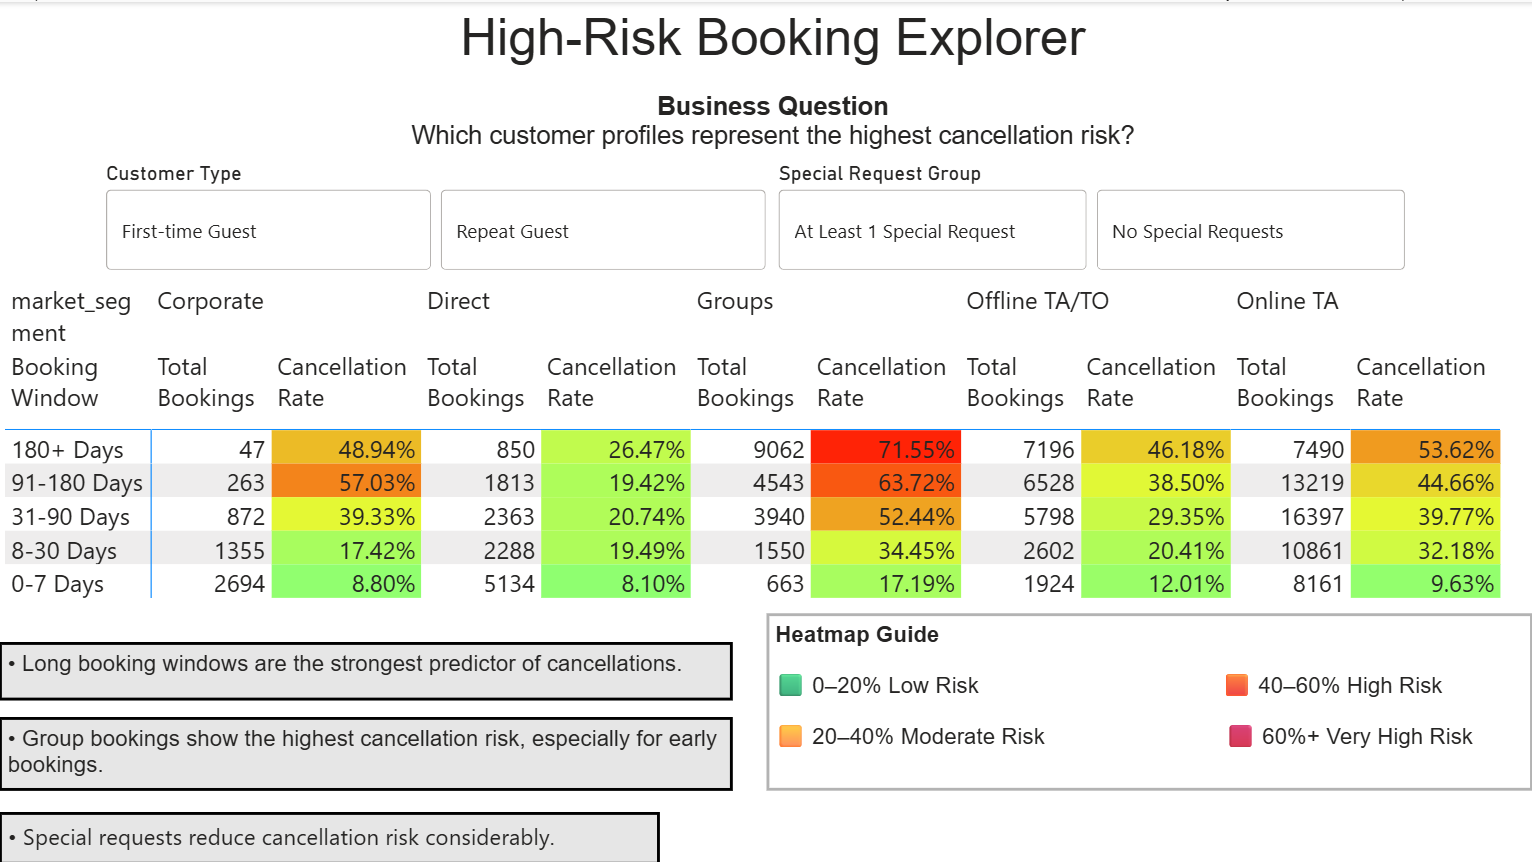

Layout of this report page (visuals, bound fields, positions):
{"tool":"powerbi","page":{"name":"Page 4","canvas":[1280,720],"ordinal":3},"visuals":[{"type":"textbox","box":[10,0,1270,70],"z":0},{"type":"textbox","box":[10,70,1270,61.4],"z":1000},{"type":"pivotTable","fields":{"Rows":["hotel_bookings_cleaned.Booking Window"],"Columns":["hotel_bookings_cleaned.market_segment"],"Values":["hotel_bookings_cleaned.Total Bookings","hotel_bookings_cleaned.Cancellation Rate"]},"box":[0,228.7,1280.2,294.7],"z":2000},{"type":"advancedSlicerVisual","fields":{"Values":["hotel_bookings_cleaned.Customer Type"]},"box":[84.2,132,561,96.7],"z":3000},{"type":"advancedSlicerVisual","fields":{"Values":["hotel_bookings_cleaned.Special Request Group"]},"box":[645.2,132,532.6,96.7],"z":4000},{"type":"textbox","box":[0,533.6,611.7,48.5],"z":5000},{"type":"textbox","box":[0,596.3,611.7,61.5],"z":6000},{"type":"textbox","box":[0,675.6,551.4,45],"z":7000},{"type":"textbox","box":[640.1,510,638.9,147.9],"z":8000}]}

Visuals, with their boxes in screenshot pixels (x1, y1, x2, y2), scaled from the page's 1280x720 canvas onto the 1532x862 screenshot:
textbox: 12, 0, 1531, 84
textbox: 12, 84, 1531, 157
pivotTable - hotel_bookings_cleaned.Booking Window x hotel_bookings_cleaned.market_segment: 0, 274, 1531, 627
advancedSlicerVisual - hotel_bookings_cleaned.Customer Type: 101, 158, 772, 274
advancedSlicerVisual - hotel_bookings_cleaned.Special Request Group: 772, 158, 1410, 274
textbox: 0, 639, 732, 697
textbox: 0, 714, 732, 788
textbox: 0, 809, 660, 861
textbox: 766, 611, 1531, 788
